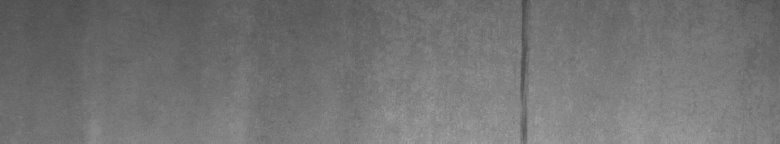hd: (511, 4, 534, 136)
